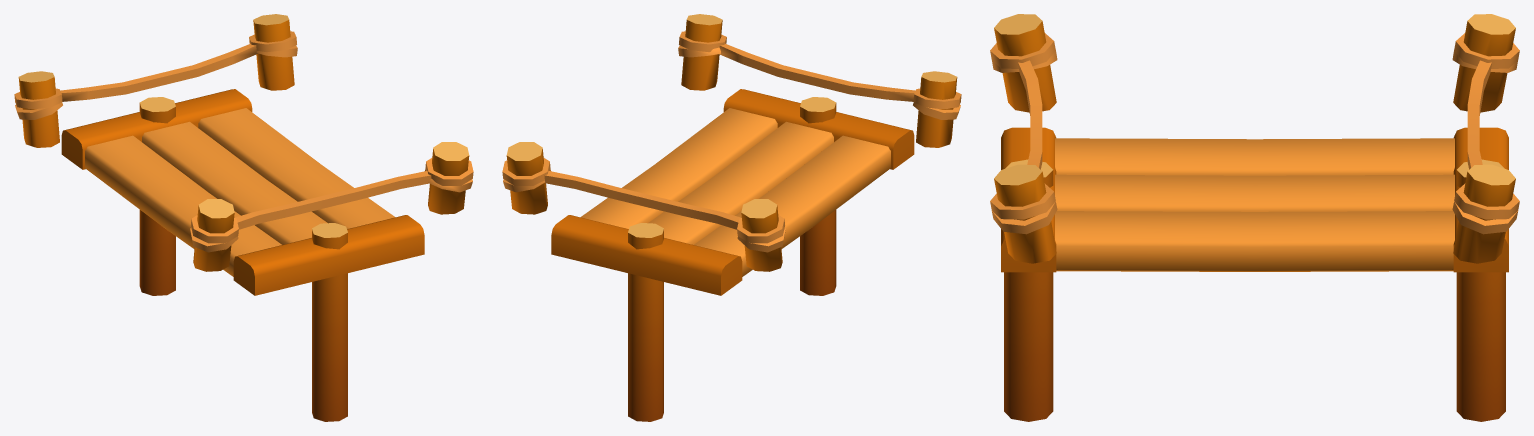
Rendered from Props_Wooden_Bridge_01_A.fbx.
3 views of the same model, side by side, from view 1: azimuth 30°, elevation 25°; view 2: azimuth 150°, elevation 25°; view 3: azimuth 270°, elevation 25° (orthographic). The views are drawn at different scales.
Visible parts, largest first — view 1: Props_Wooden_Bridge_01_A; view 2: Props_Wooden_Bridge_01_A; view 3: Props_Wooden_Bridge_01_A.
Boxes of the visible parts, x1,y1,x2,y2 form: Props_Wooden_Bridge_01_A: [14, 14, 473, 421]; Props_Wooden_Bridge_01_A: [502, 14, 961, 421]; Props_Wooden_Bridge_01_A: [990, 14, 1519, 421].
Size of the model in its own units: 327 by 270 by 411.
